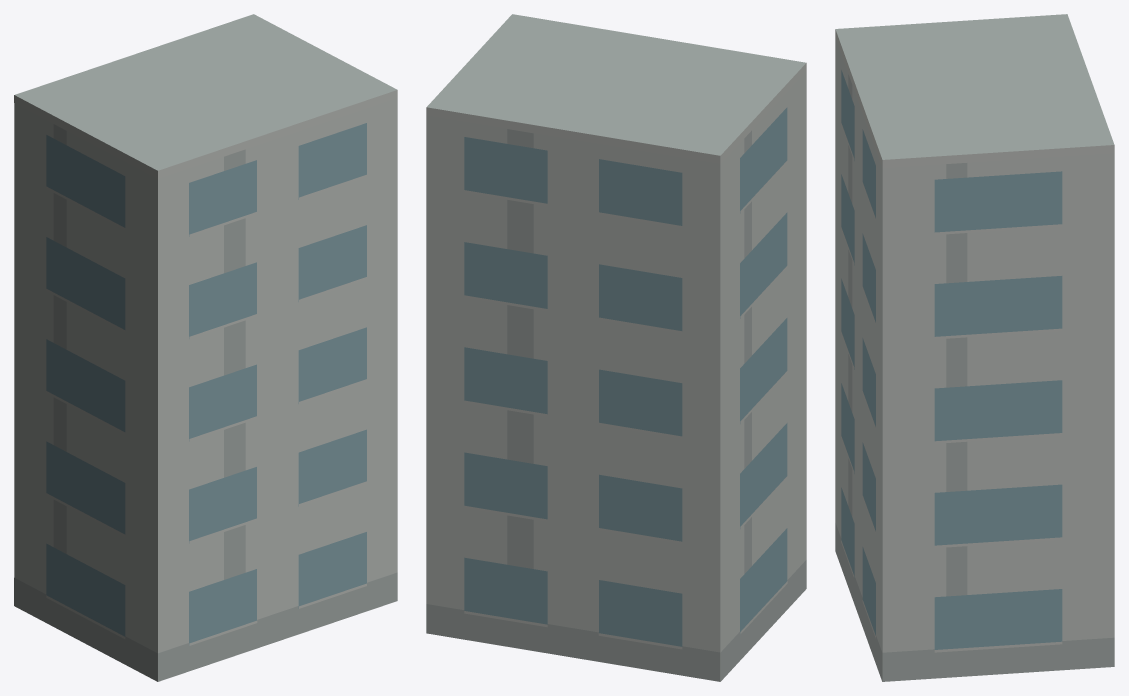
Rendered from residential-63fea28c-b62b-4d6c-825c-0b0be85e4930.glb.
The picture shows the model from 3 angles, left to right: view 1: azimuth 30°, elevation 25°; view 2: azimuth 150°, elevation 25°; view 3: azimuth 270°, elevation 25°; orthographic projection. The views are drawn at different scales.
Parts seen in each view (by area): view 1: residential-63fea28c-b62b-4d6c-825c-0b0be85e4930.tmp; view 2: residential-63fea28c-b62b-4d6c-825c-0b0be85e4930.tmp; view 3: residential-63fea28c-b62b-4d6c-825c-0b0be85e4930.tmp.
Part boxes in pixels (x1,y1,x2,y2): residential-63fea28c-b62b-4d6c-825c-0b0be85e4930.tmp: [14, 14, 397, 681]; residential-63fea28c-b62b-4d6c-825c-0b0be85e4930.tmp: [426, 14, 806, 681]; residential-63fea28c-b62b-4d6c-825c-0b0be85e4930.tmp: [835, 14, 1114, 681].
Bounding box in the file's own units: 9.15 × 15.25 × 7.4.
